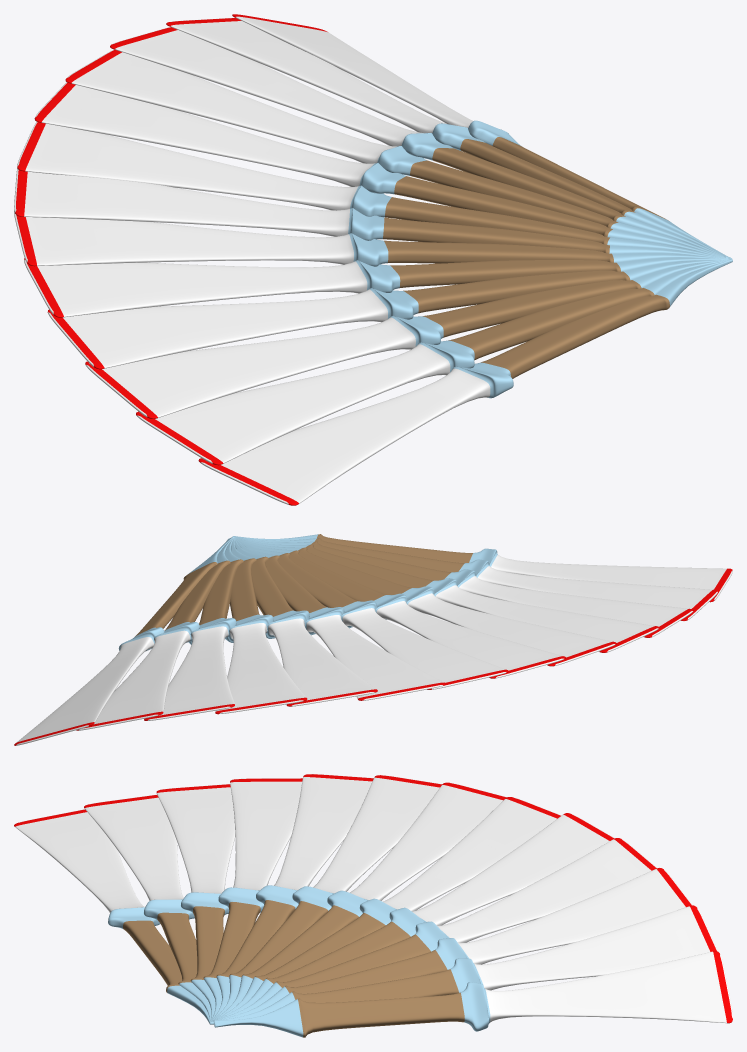
File: Fan.fbx
3 renders of one model, top to bottom at view 1: azimuth 30°, elevation 25°; view 2: azimuth 150°, elevation 25°; view 3: azimuth 270°, elevation 25°, orthographic. The views are drawn at different scales.
Visible parts, largest first — view 1: FanShape; view 2: FanShape; view 3: FanShape.
Part boxes in pixels (x1,y1,x2,y2): FanShape: (14, 14, 732, 505); FanShape: (14, 534, 732, 745); FanShape: (14, 774, 732, 1037).
Size of the model in its own units: 9.34 by 1.36 by 12.8.
